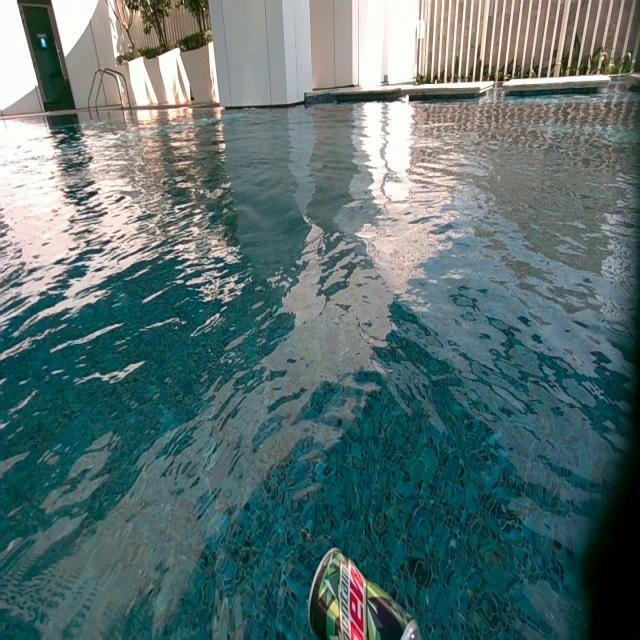Cans: (308, 544, 424, 636)
